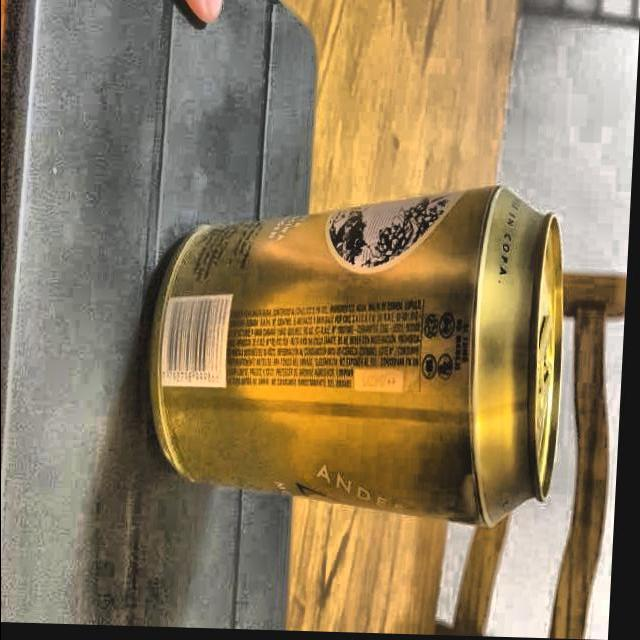Aluminum Can: (138, 178, 581, 537)
